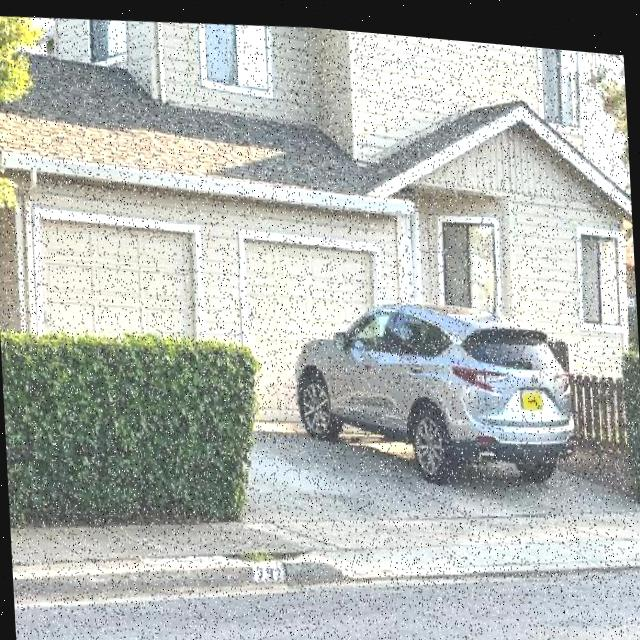LicensePlate: (520, 380, 543, 400)
